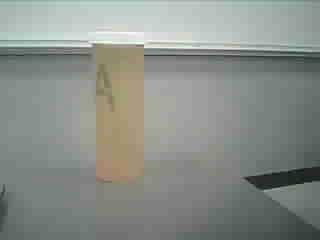Bottle A: (82, 27, 164, 186)
